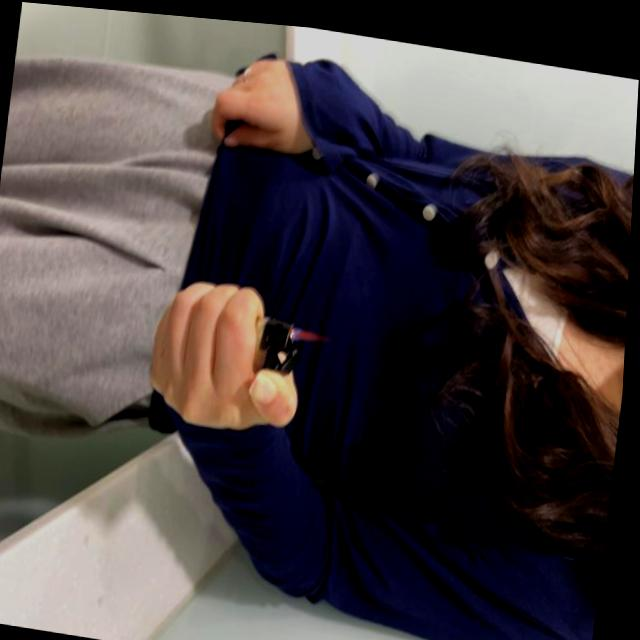Fire: (293, 320, 335, 340)
